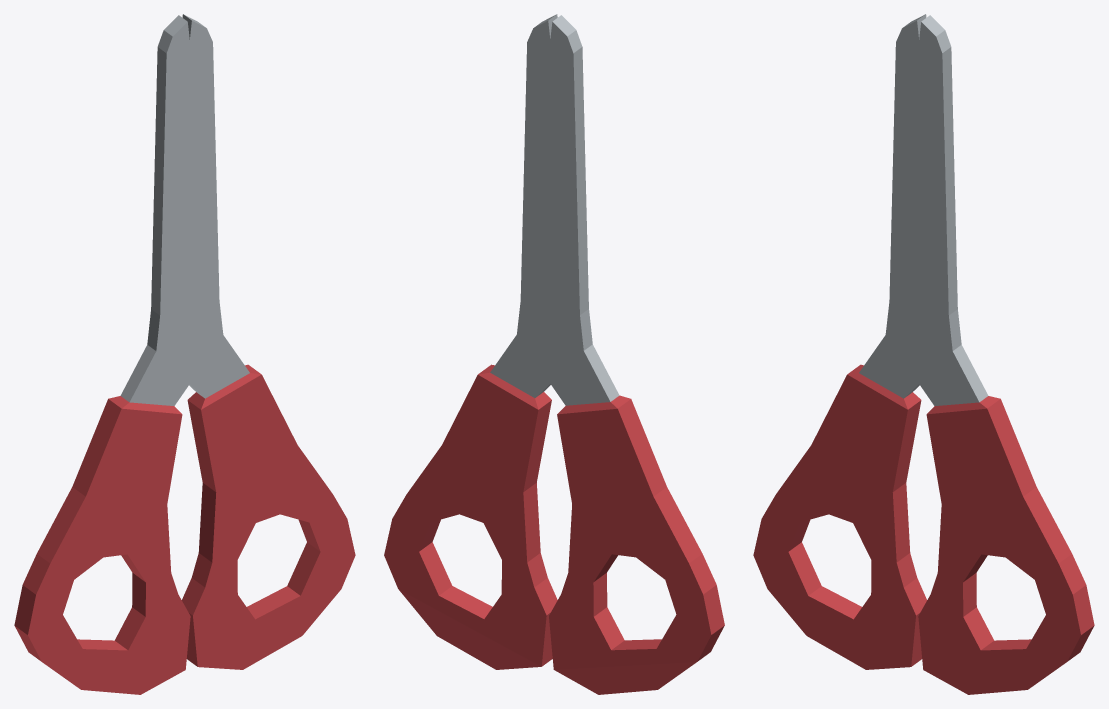
Rendered from Scissors.fbx.
3 renders of one model, left to right at view 1: azimuth 30°, elevation 25°; view 2: azimuth 150°, elevation 25°; view 3: azimuth 330°, elevation 25°, orthographic.
Visible parts, largest first — view 1: Plane, Plane.001; view 2: Plane, Plane.001; view 3: Plane, Plane.001.
Boxes of the visible parts, <box> form: Plane: <box>151,15,355,669</box>; Plane.001: <box>14,14,220,694</box>; Plane: <box>384,15,588,669</box>; Plane.001: <box>519,14,724,694</box>; Plane: <box>888,14,1094,694</box>; Plane.001: <box>753,15,957,669</box>.
Bounding box in the file's own units: 202 × 388 × 14.77.
